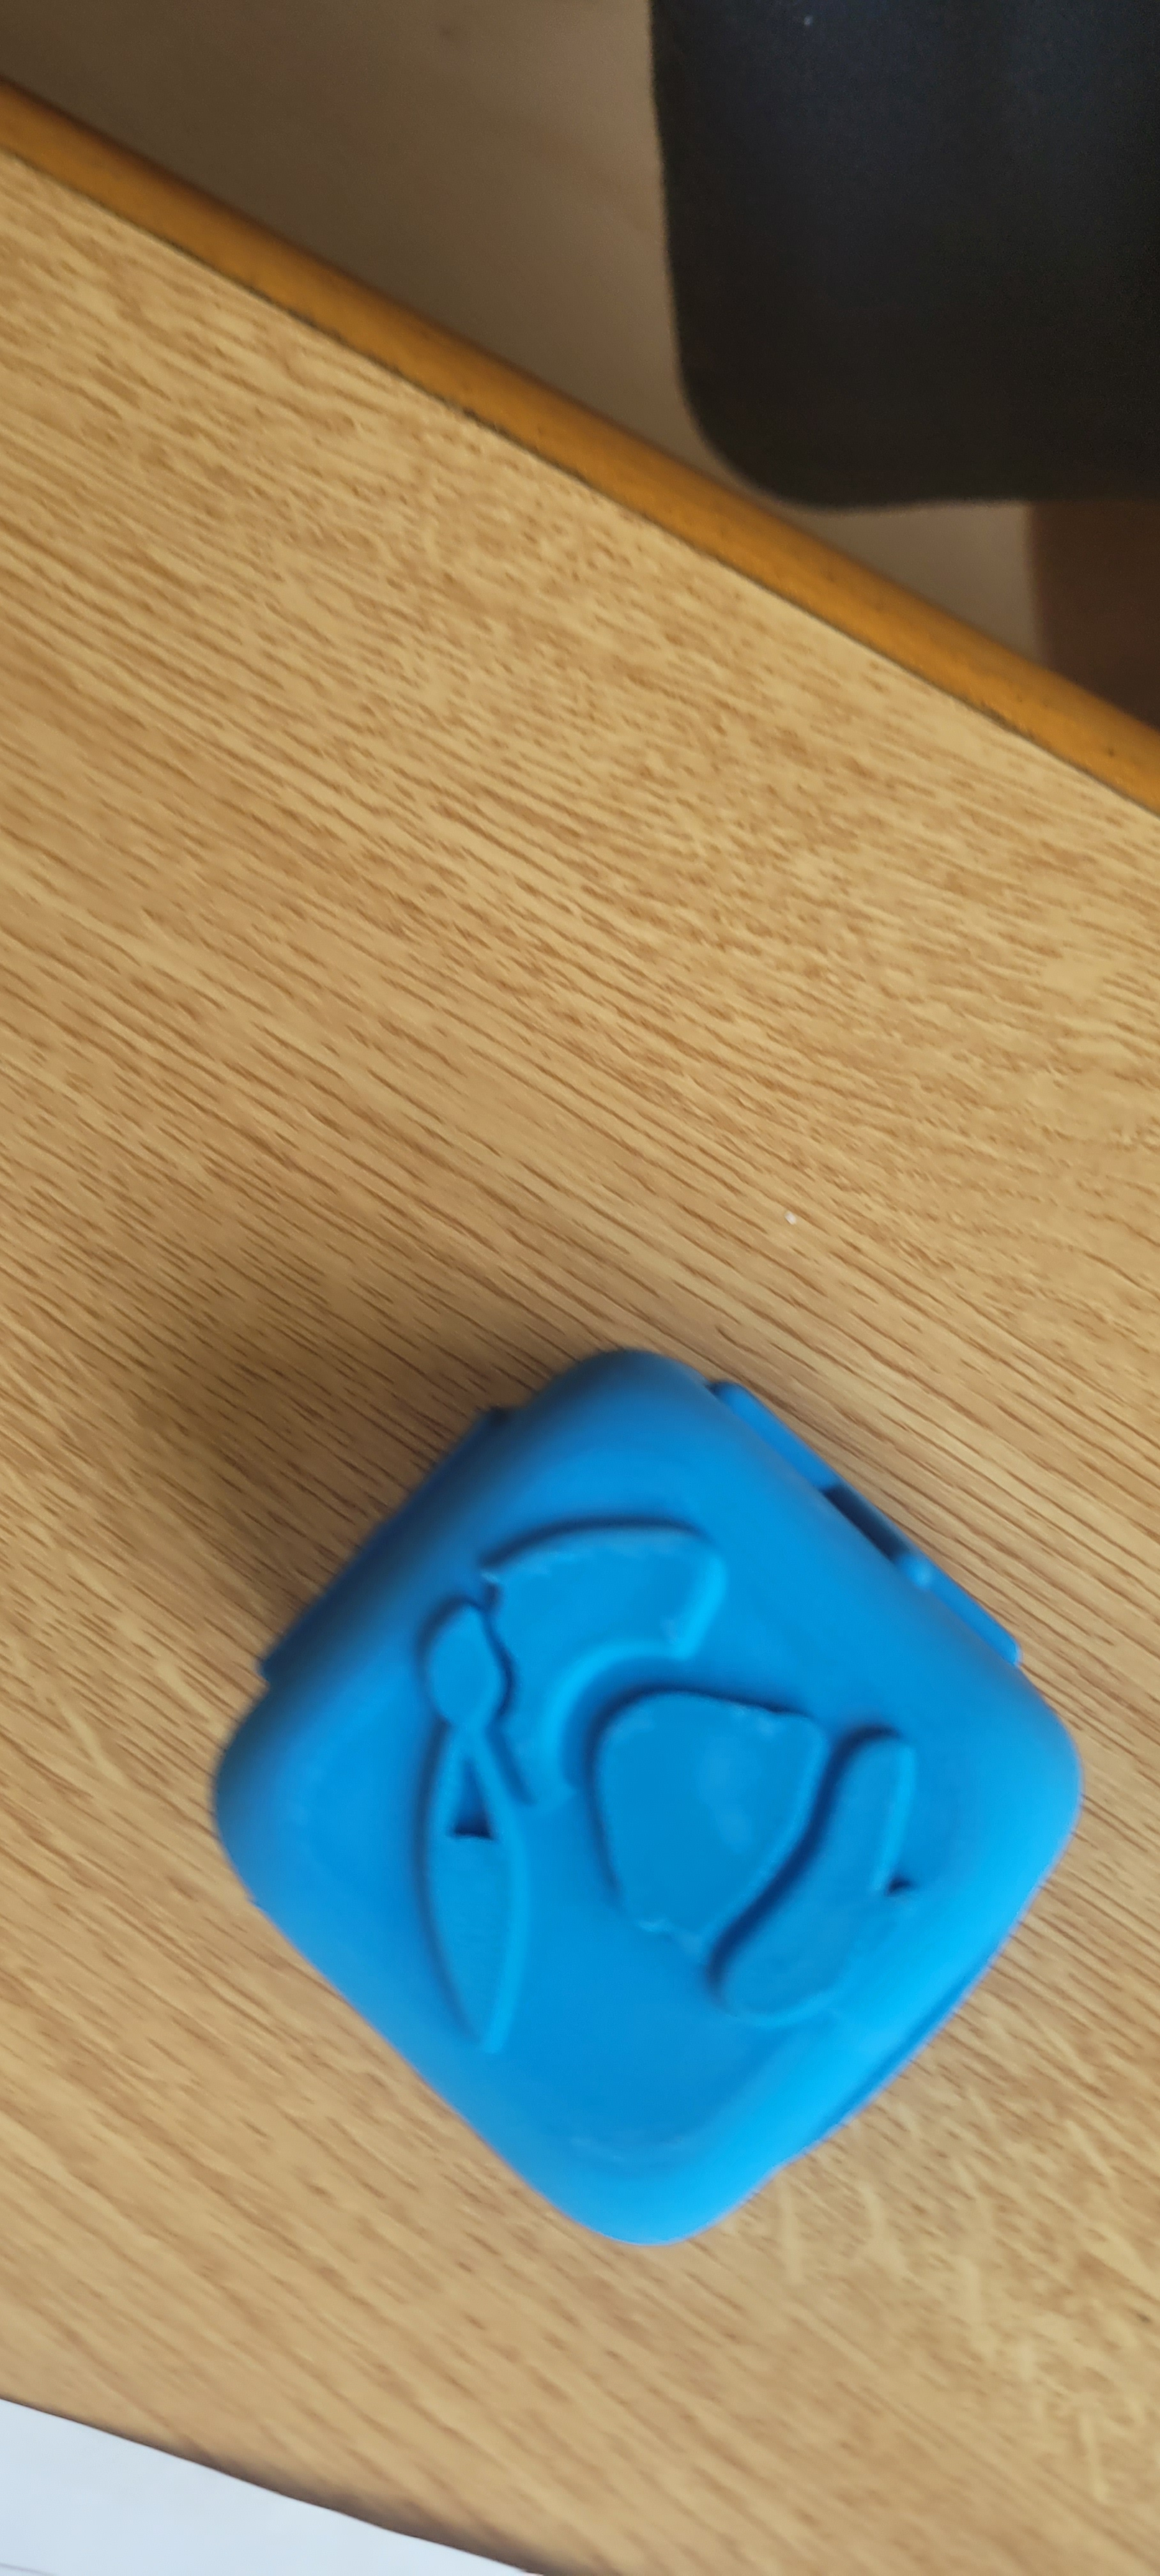Artist_Info: (294, 1432, 1011, 2094)
